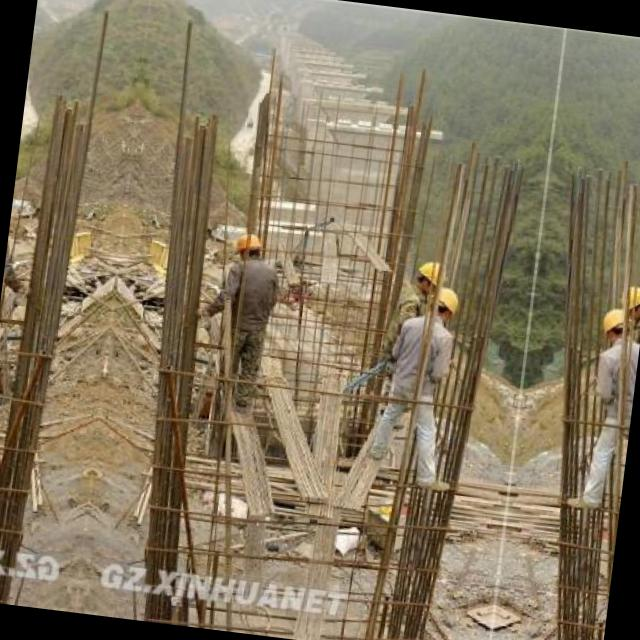helmet: (421, 282, 459, 324), (598, 304, 636, 346), (410, 256, 448, 296), (230, 228, 264, 266), (615, 280, 640, 320)
